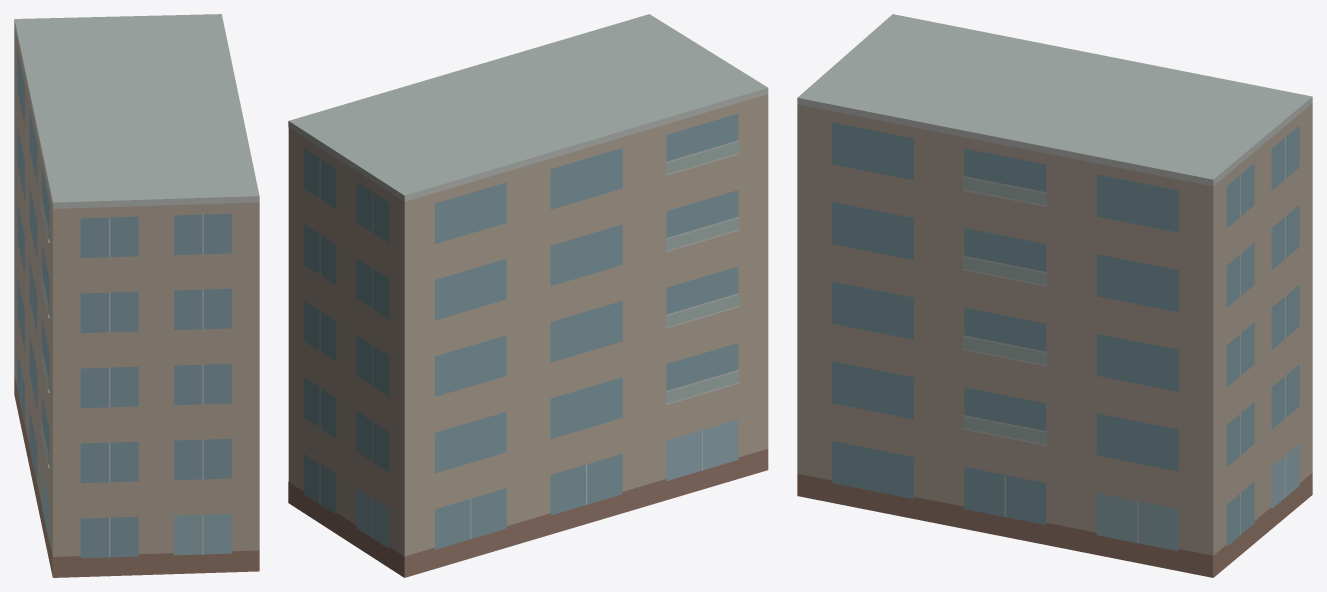
Rendered from survey-upis-32657840.glb.
3 renders of one model, left to right at view 1: azimuth 30°, elevation 25°; view 2: azimuth 150°, elevation 25°; view 3: azimuth 270°, elevation 25°, orthographic. The views are drawn at different scales.
Visible parts, largest first — view 1: survey-upis-32657840.tmp; view 2: survey-upis-32657840.tmp; view 3: survey-upis-32657840.tmp.
Boxes of the visible parts, x1=… form: survey-upis-32657840.tmp: x1=14, y1=14, x2=259, y2=577; survey-upis-32657840.tmp: x1=288, y1=14, x2=768, y2=577; survey-upis-32657840.tmp: x1=797, y1=14, x2=1312, y2=577.
Size of the model in its own units: 13.13 by 14.7 by 17.25.
